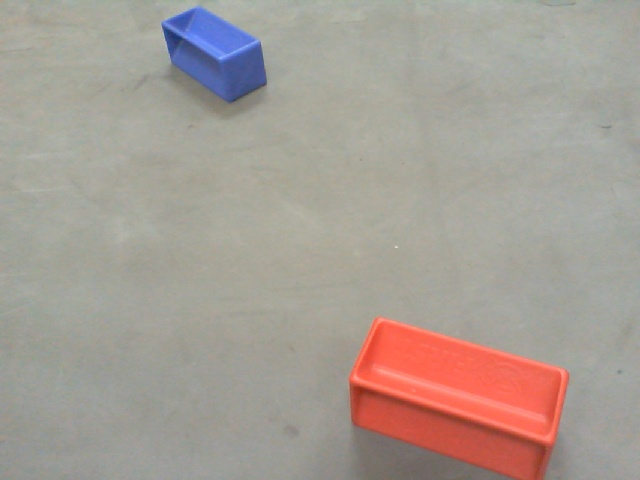BlueSample: (158, 3, 271, 107)
RedSample: (345, 310, 571, 480)
